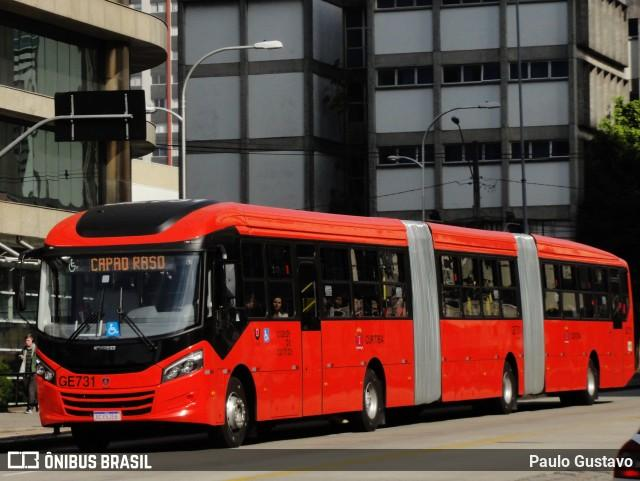CAPAO RASO: (87, 252, 167, 275)
